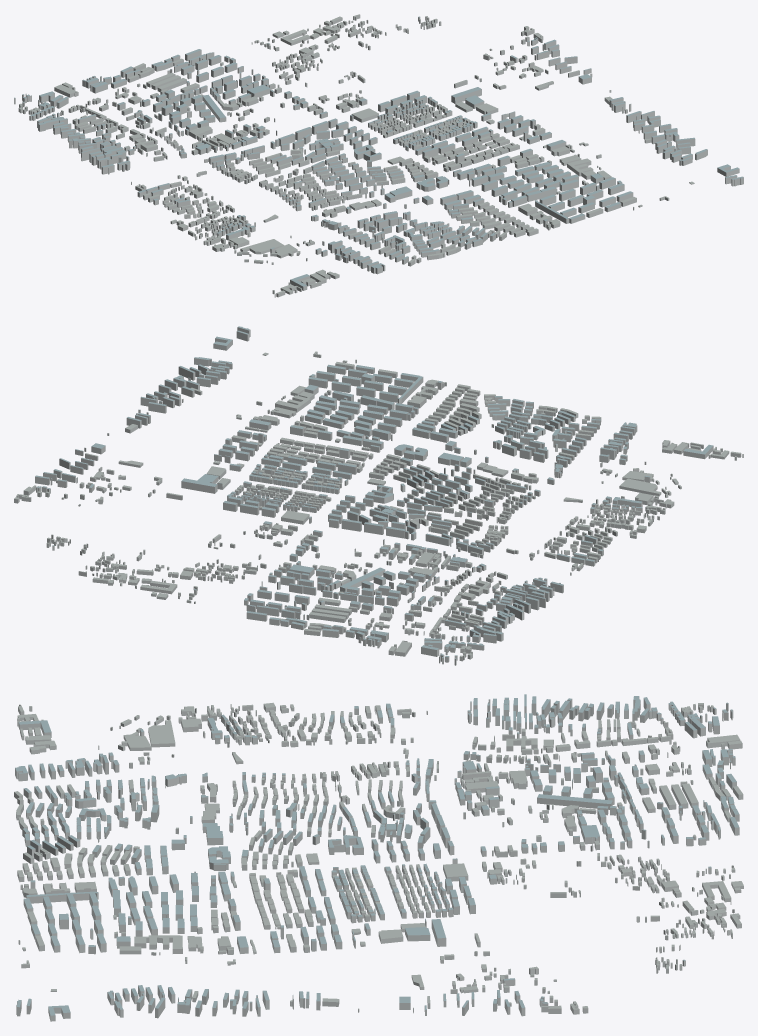
Rendered from far.glb.
3 views of the same model, one above another, from view 1: azimuth 30°, elevation 25°; view 2: azimuth 150°, elevation 25°; view 3: azimuth 270°, elevation 25° (orthographic). The views are drawn at different scales.
Size of the model in its own units: 2175 by 38.84 by 2120.
